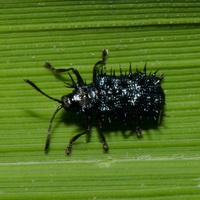insect: (24, 49, 164, 154)
